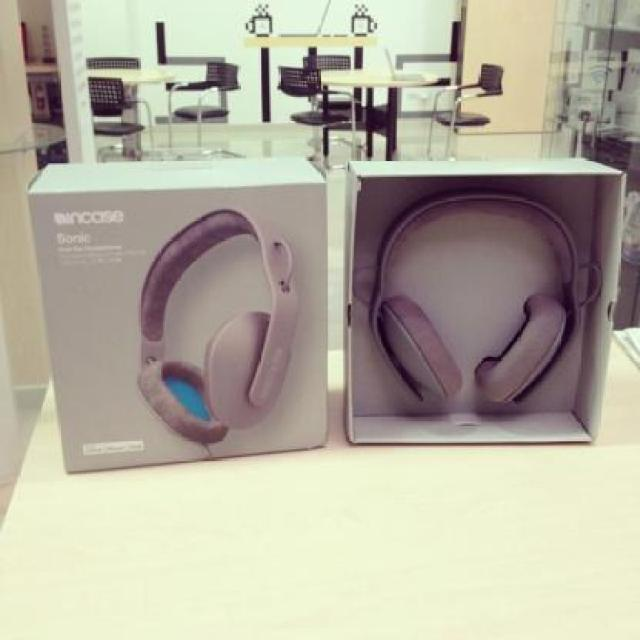earphone: (375, 185, 597, 439)
